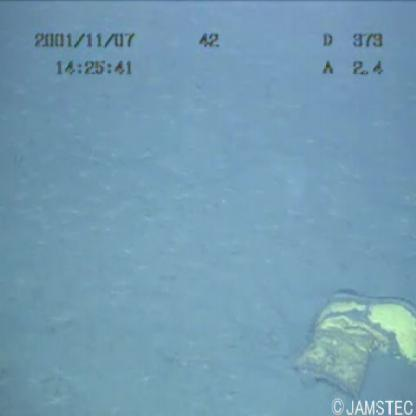Rác: (266, 280, 415, 390)
